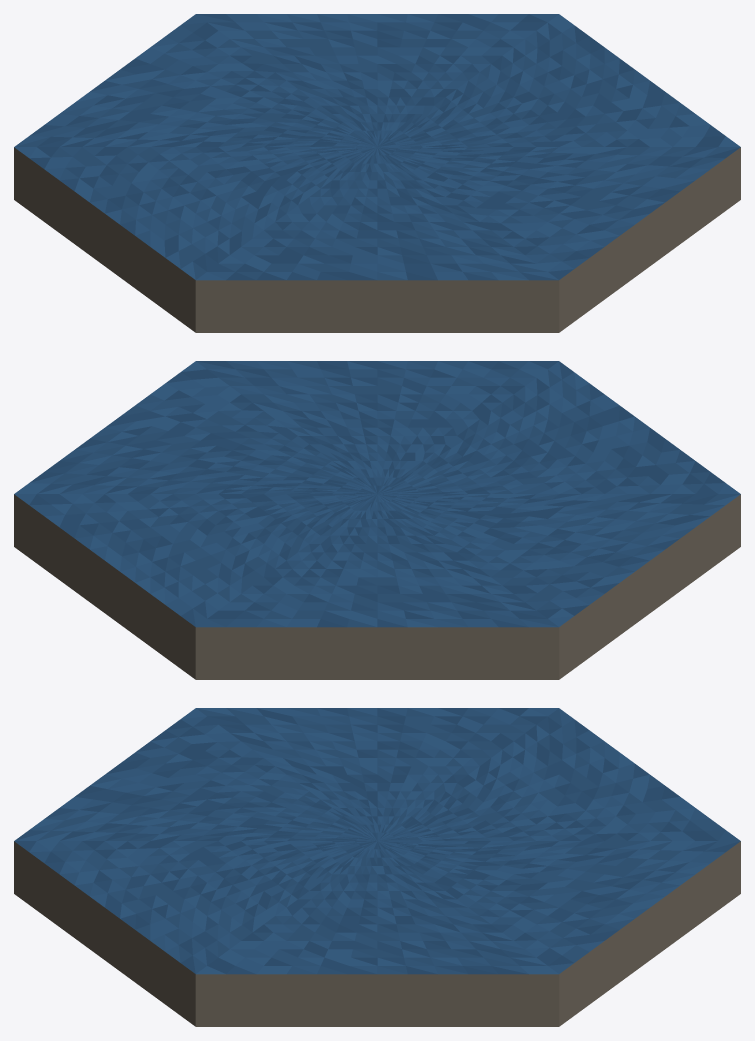
Rendered from TERRAIN_DEEP_OCEAN_v00.fbx.
3 views of the same model, one above another, from view 1: azimuth 30°, elevation 25°; view 2: azimuth 150°, elevation 25°; view 3: azimuth 270°, elevation 25° (orthographic).
Visible parts, largest first — view 1: TERRAIN_DEEP_OCEAN_v00; view 2: TERRAIN_DEEP_OCEAN_v00; view 3: TERRAIN_DEEP_OCEAN_v00.
Part boxes in pixels (<box>): TERRAIN_DEEP_OCEAN_v00: <box>14,14,740,332</box>; TERRAIN_DEEP_OCEAN_v00: <box>14,361,740,679</box>; TERRAIN_DEEP_OCEAN_v00: <box>14,708,740,1026</box>.
Size of the model in its own units: 173 by 16 by 200.
